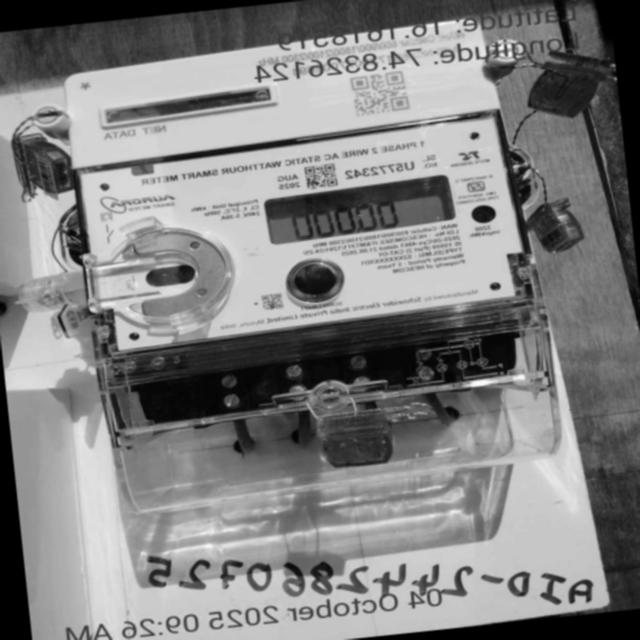meter: (59, 18, 514, 356)
